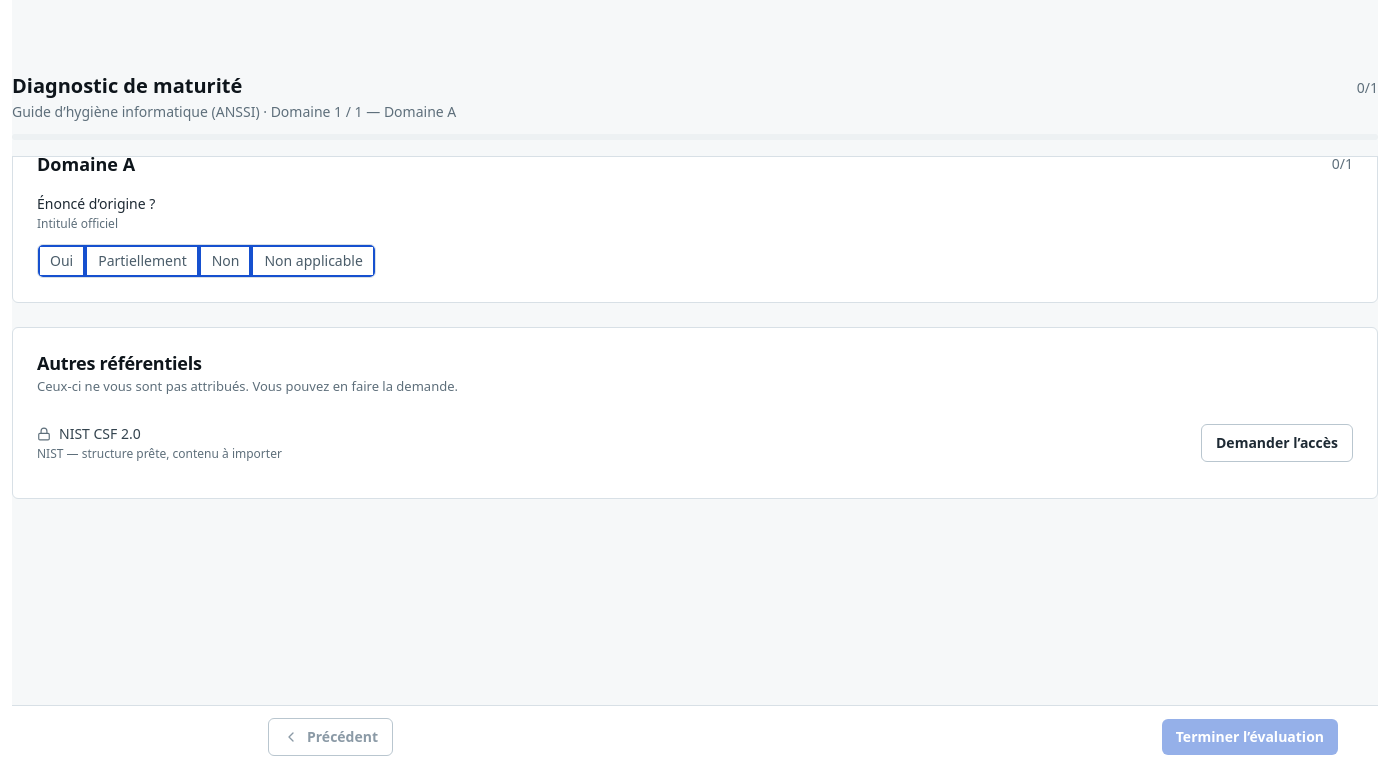
Test: DiagnosticPage — plusieurs référentiels › affiche ce qui n’est pas attribué et permet de le demander
The image size is (1390, 768).
Expected: the text "NIST CSF 2.0" is shown, [37, 424, 141, 443]
Click the button "Demander l’accès" at (1277, 443), box [1201, 424, 1353, 462]
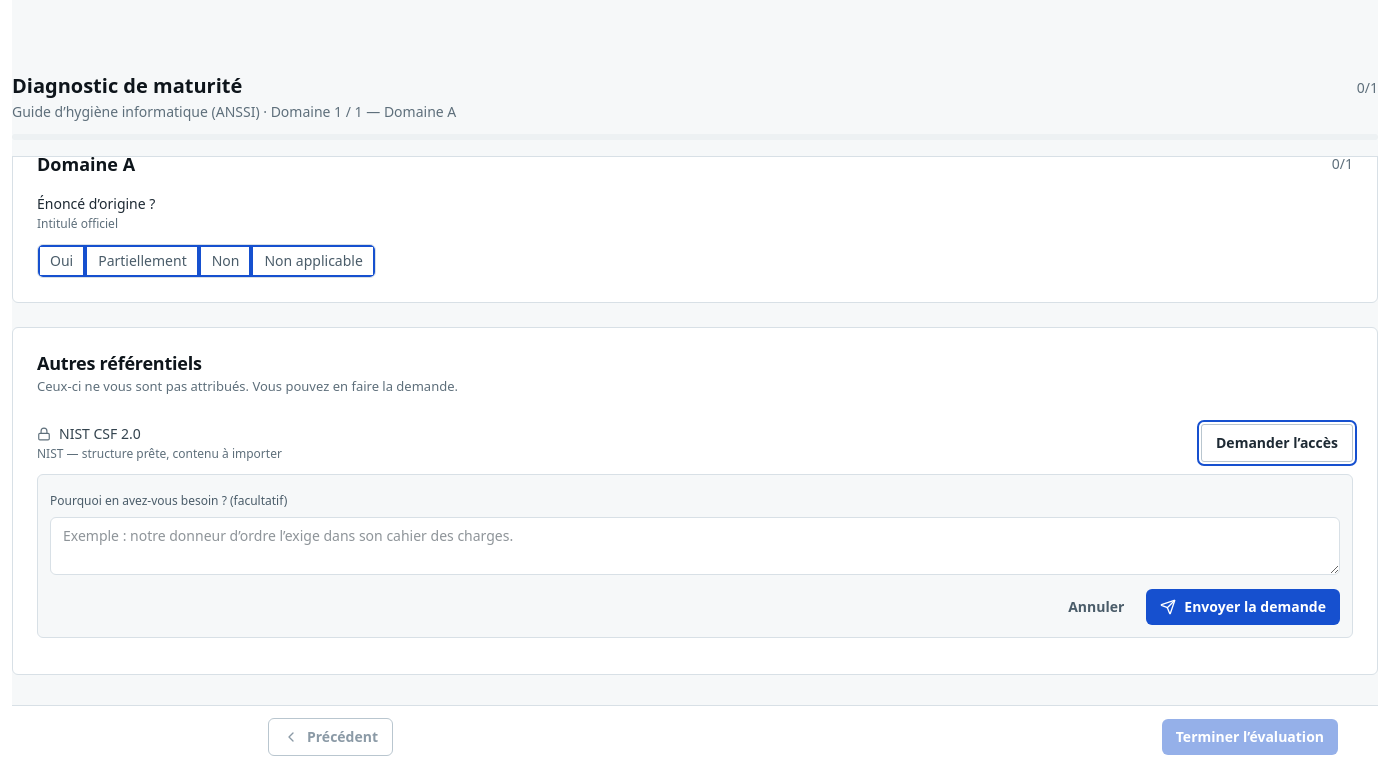
Type "Exigé par notre assureur." into the text box labelled "Pourquoi en avez-vous besoin ? (facultatif)" at (695, 546), box [50, 517, 1340, 575]
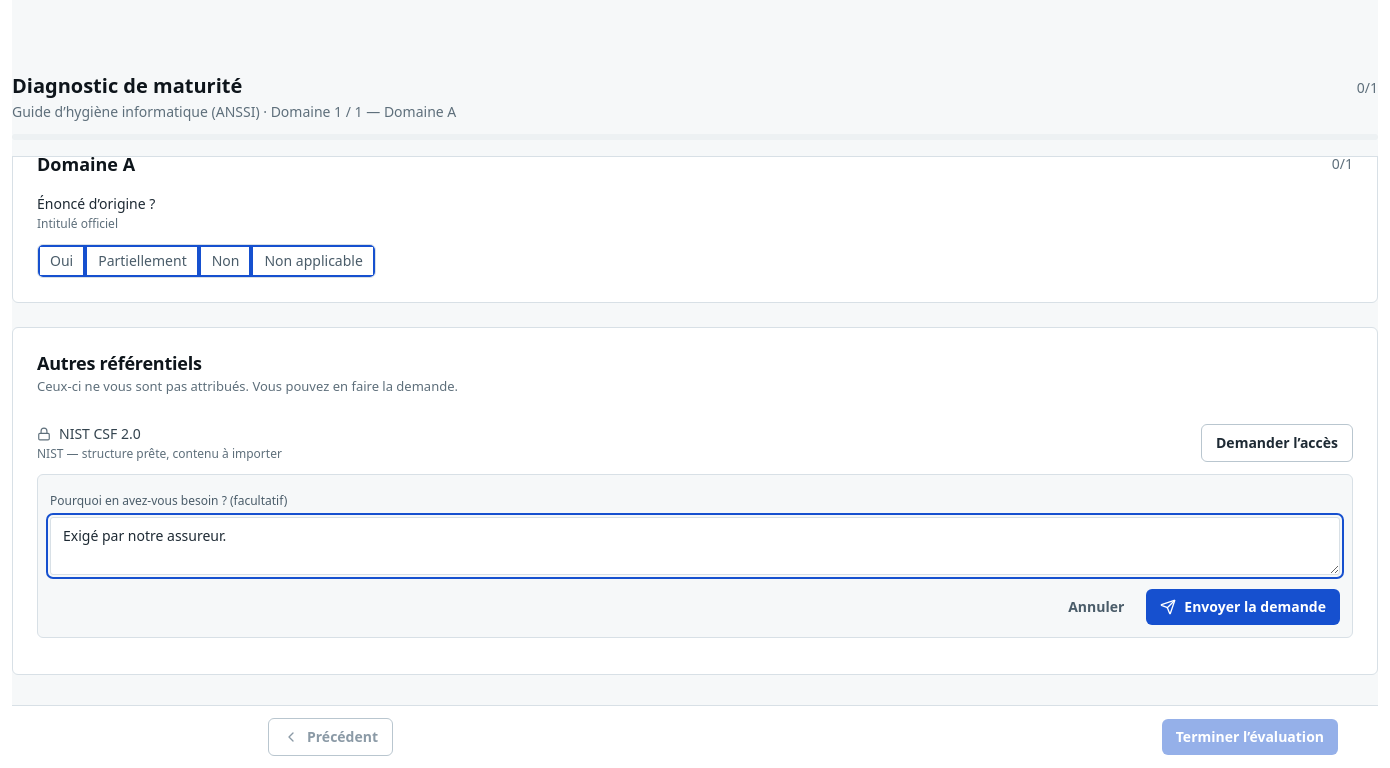
Click the button "Envoyer la demande" at (1243, 607), box [1146, 589, 1340, 625]
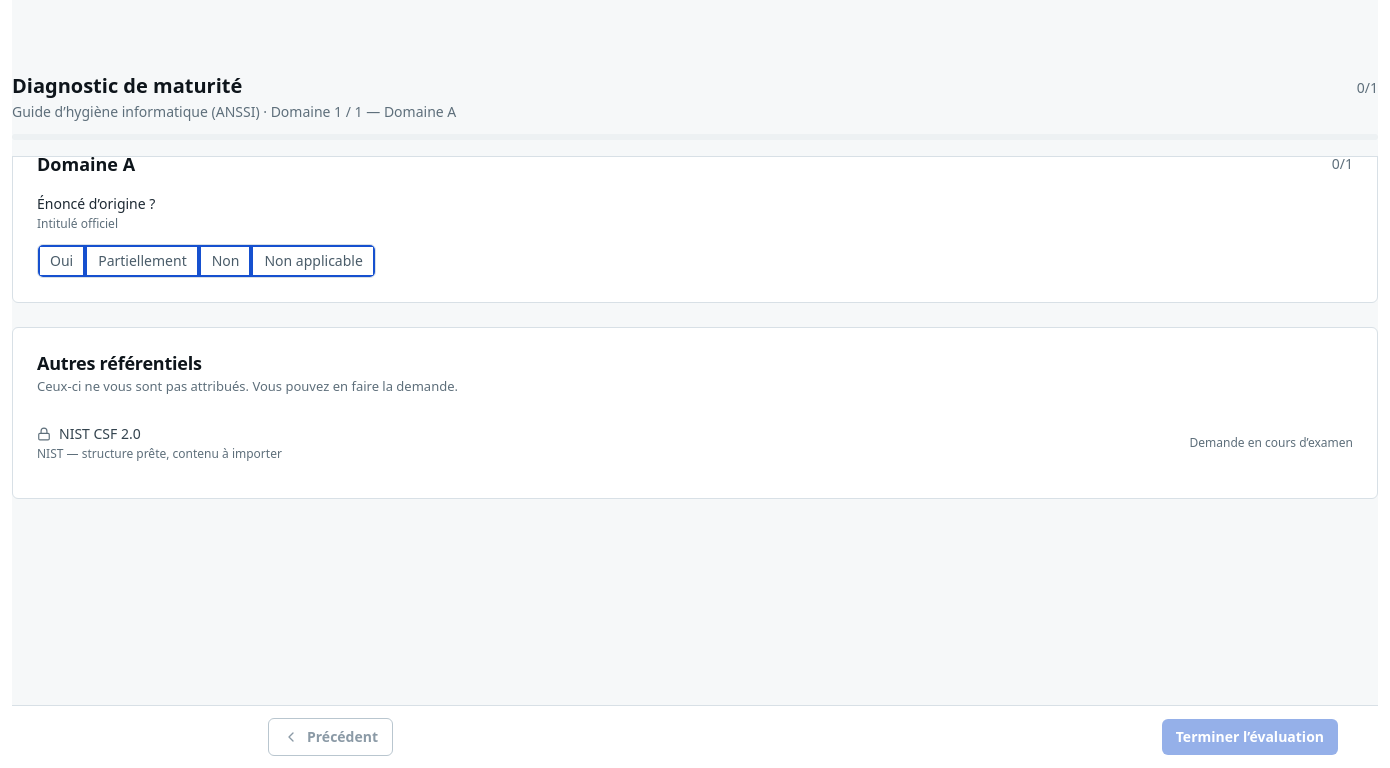
Now the text "Demande en cours d’examen" is shown, box [1190, 435, 1353, 451]
